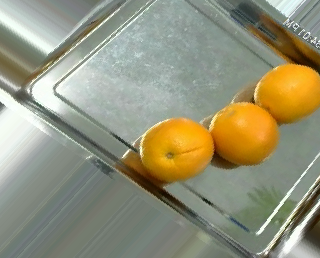Orange: (140, 117, 214, 182), (210, 102, 280, 167), (252, 62, 319, 123)
